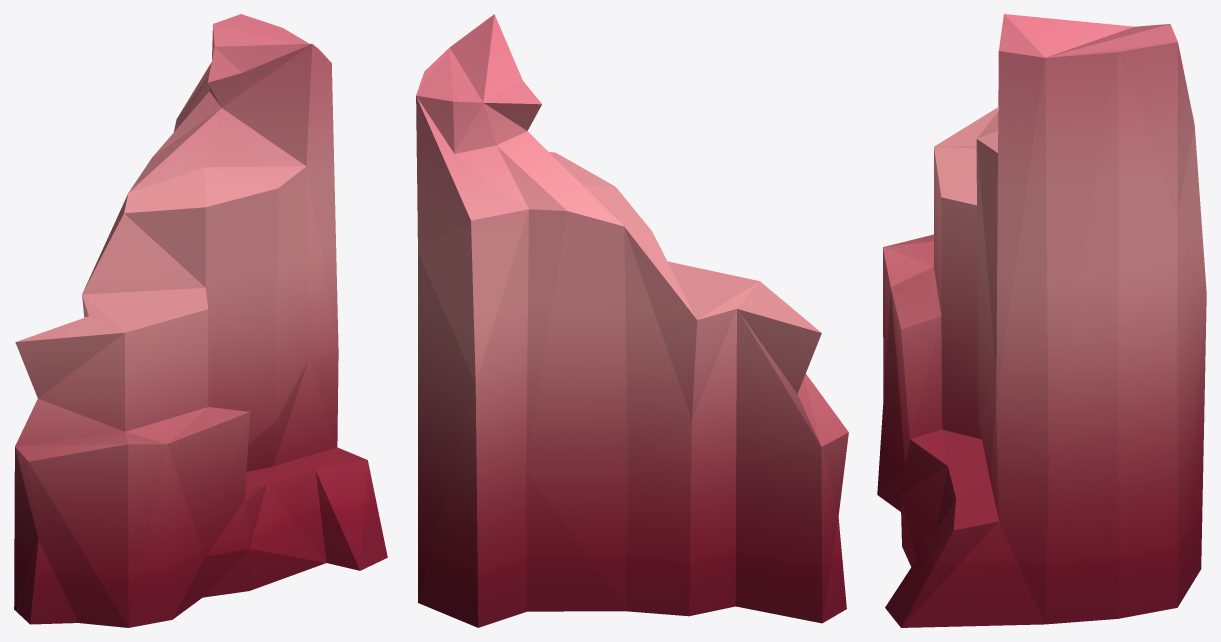
The model's file is Sunset_Mountain_004.FBX.
The picture shows the model from 3 angles, left to right: view 1: azimuth 30°, elevation 25°; view 2: azimuth 150°, elevation 25°; view 3: azimuth 270°, elevation 25°; orthographic projection. The views are drawn at different scales.
Visible parts, largest first — view 1: Sunset_Mountain_004; view 2: Sunset_Mountain_004; view 3: Sunset_Mountain_004.
Part boxes in pixels (x1,y1,x2,y2): Sunset_Mountain_004: [14, 14, 387, 627]; Sunset_Mountain_004: [416, 14, 848, 627]; Sunset_Mountain_004: [877, 14, 1206, 627].
Size of the model in its own units: 2730 by 3765 by 1891.
Materials: 1 (1 with a texture image).
